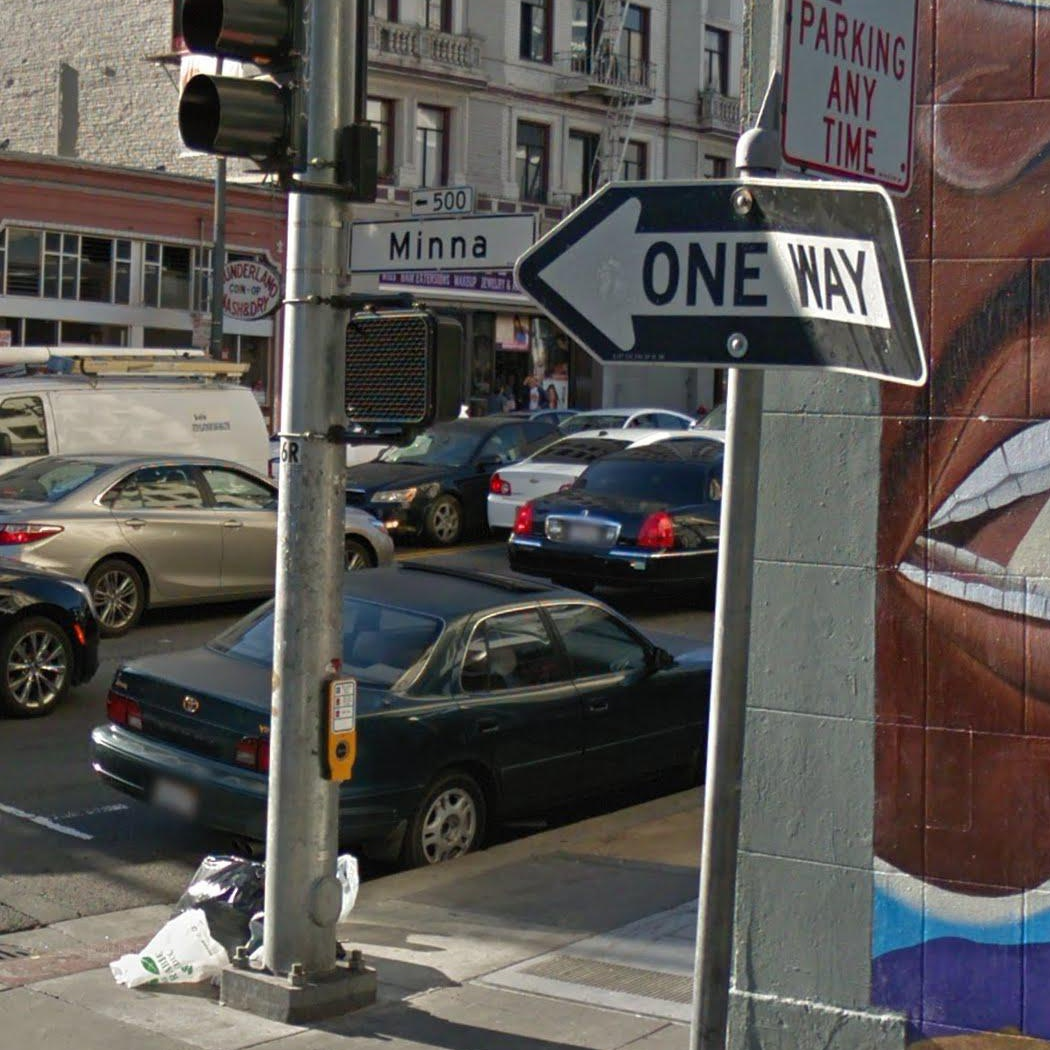No Parking Anytime: (779, 0, 920, 196)
